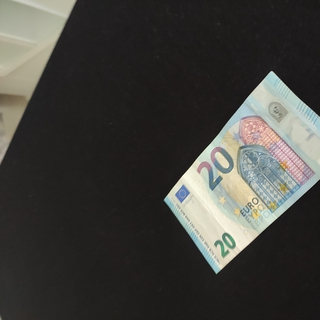20EUROFront: (163, 69, 320, 276)
